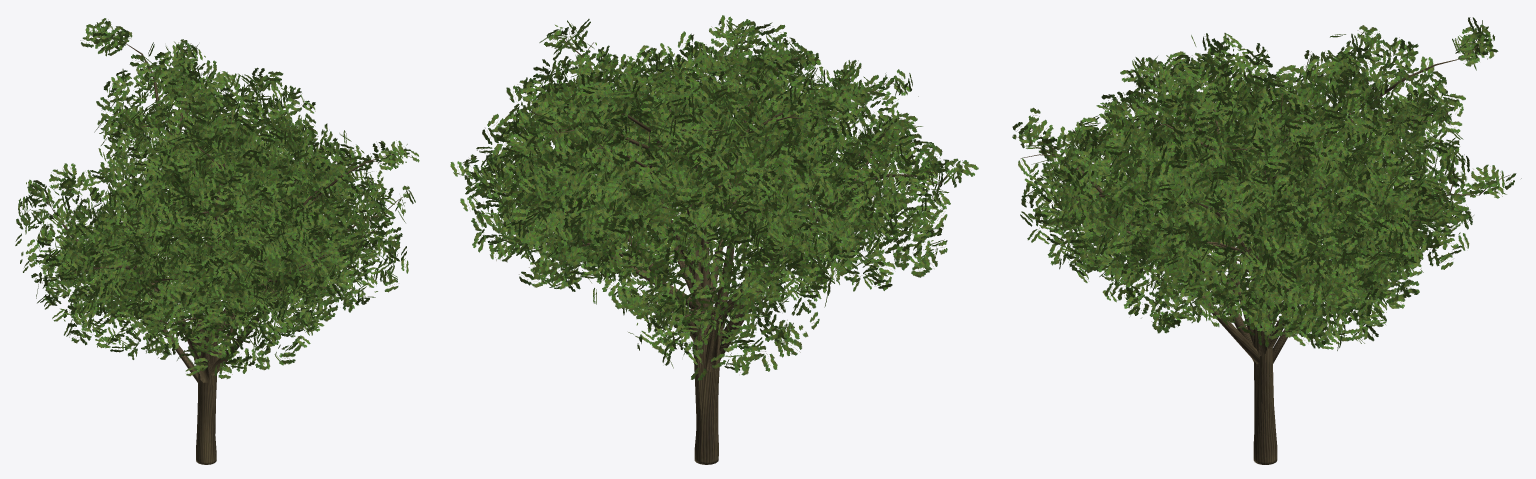
File: trees-v014-oak.glb
3 renders of one model, left to right at view 1: azimuth 30°, elevation 25°; view 2: azimuth 150°, elevation 25°; view 3: azimuth 270°, elevation 25°, orthographic. The views are drawn at different scales.
Parts seen in each view (by area): view 1: tree_oak_1_foliage_leaf, tree_oak_2_foliage_leaf, tree_oak_0_foliage_leaf, tree_oak_1_bark, tree_oak_0_bark, tree_oak_2_bark; view 2: tree_oak_2_foliage_leaf, tree_oak_1_foliage_leaf, tree_oak_0_foliage_leaf, tree_oak_1_bark, tree_oak_2_bark, tree_oak_0_bark; view 3: tree_oak_2_foliage_leaf, tree_oak_0_foliage_leaf, tree_oak_1_foliage_leaf, tree_oak_1_bark, tree_oak_0_bark, tree_oak_2_bark.
Boxes of the visible parts, x1,y1,x2,y2 form: tree_oak_1_foliage_leaf: [15, 156, 415, 378]; tree_oak_2_foliage_leaf: [80, 18, 324, 288]; tree_oak_0_foliage_leaf: [48, 109, 419, 342]; tree_oak_1_bark: [32, 188, 408, 464]; tree_oak_0_bark: [97, 153, 411, 433]; tree_oak_2_bark: [102, 36, 269, 389]; tree_oak_2_foliage_leaf: [491, 15, 882, 278]; tree_oak_1_foliage_leaf: [503, 75, 978, 380]; tree_oak_0_foliage_leaf: [450, 19, 918, 298]; tree_oak_1_bark: [526, 128, 962, 464]; tree_oak_2_bark: [531, 57, 880, 417]; tree_oak_0_bark: [460, 35, 904, 432]; tree_oak_2_foliage_leaf: [1107, 17, 1498, 311]; tree_oak_0_foliage_leaf: [1012, 73, 1421, 350]; tree_oak_1_foliage_leaf: [1020, 54, 1521, 347]; tree_oak_1_bark: [1054, 63, 1510, 464]; tree_oak_0_bark: [1020, 130, 1354, 437]; tree_oak_2_bark: [1121, 43, 1484, 421].
Size of the model in its own units: 15.57 by 15.68 by 16.56.
2 materials, 2 textured.
